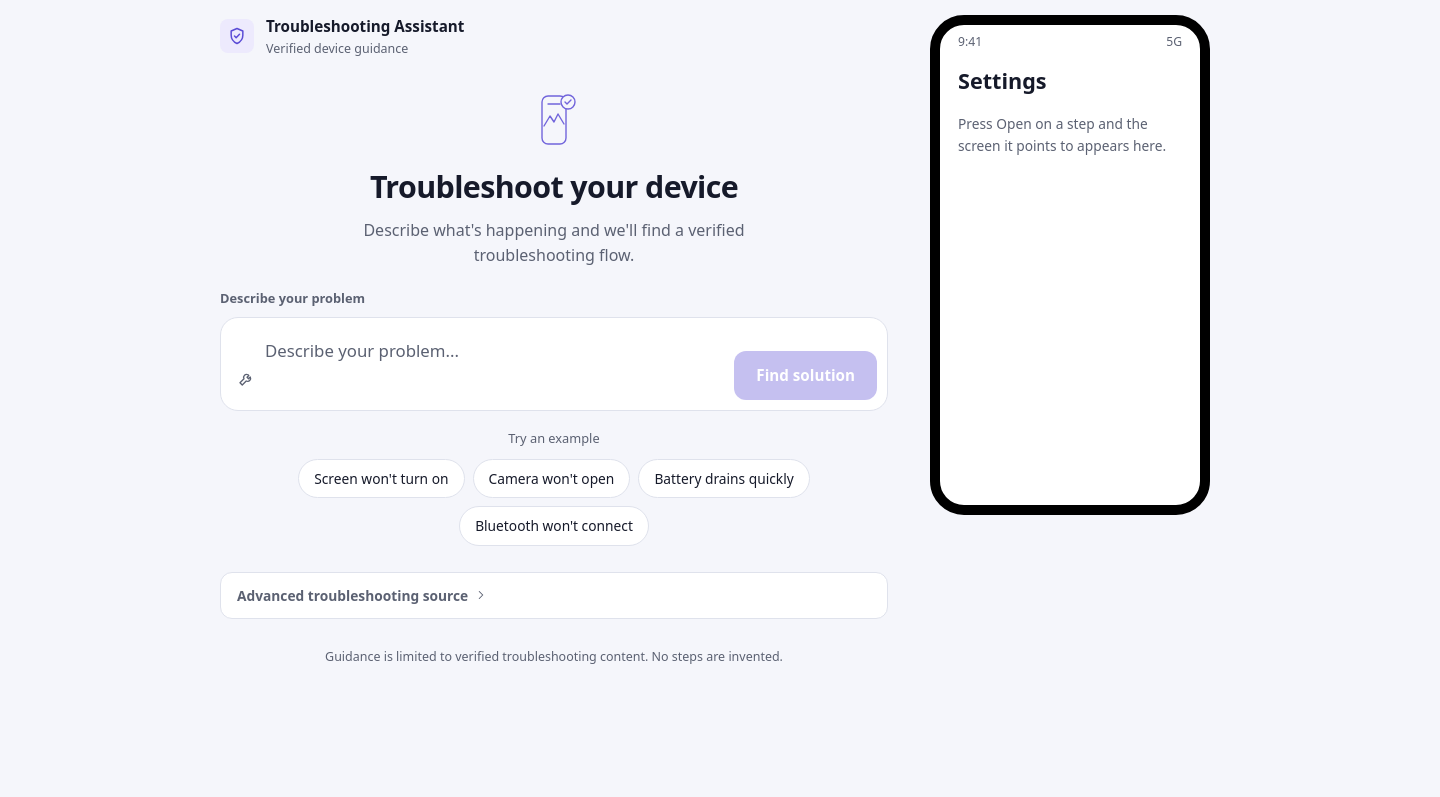
it: App › sends a clarification chip as a normal new query, not a bypass of the backend
The image size is (1440, 797).
In the text box labelled "Describe your problem": (495, 364) [265,328,724,400], type "my phone has a problem"
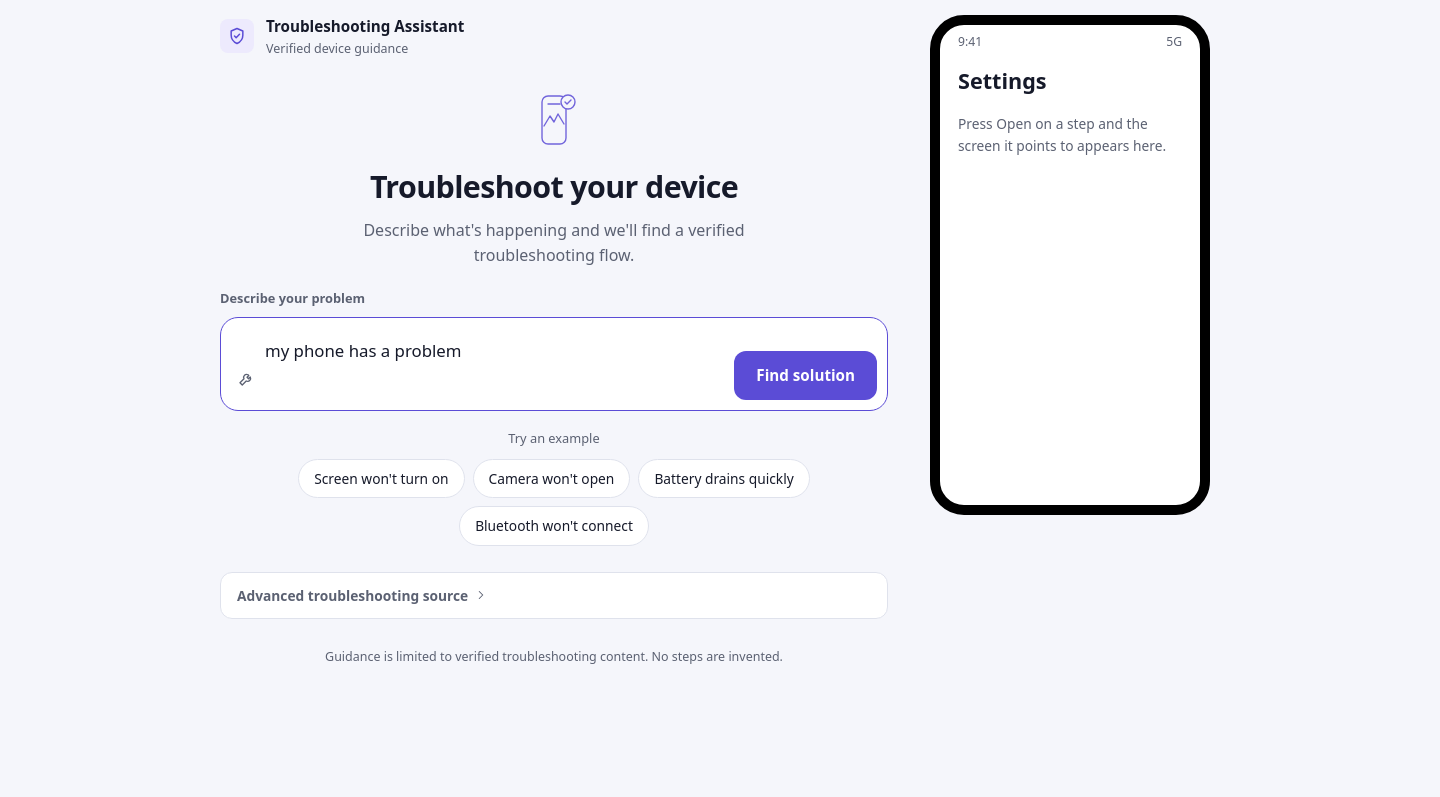
Click the button "Find solution": (806, 376) [734,351,877,400]
(page scrolled)
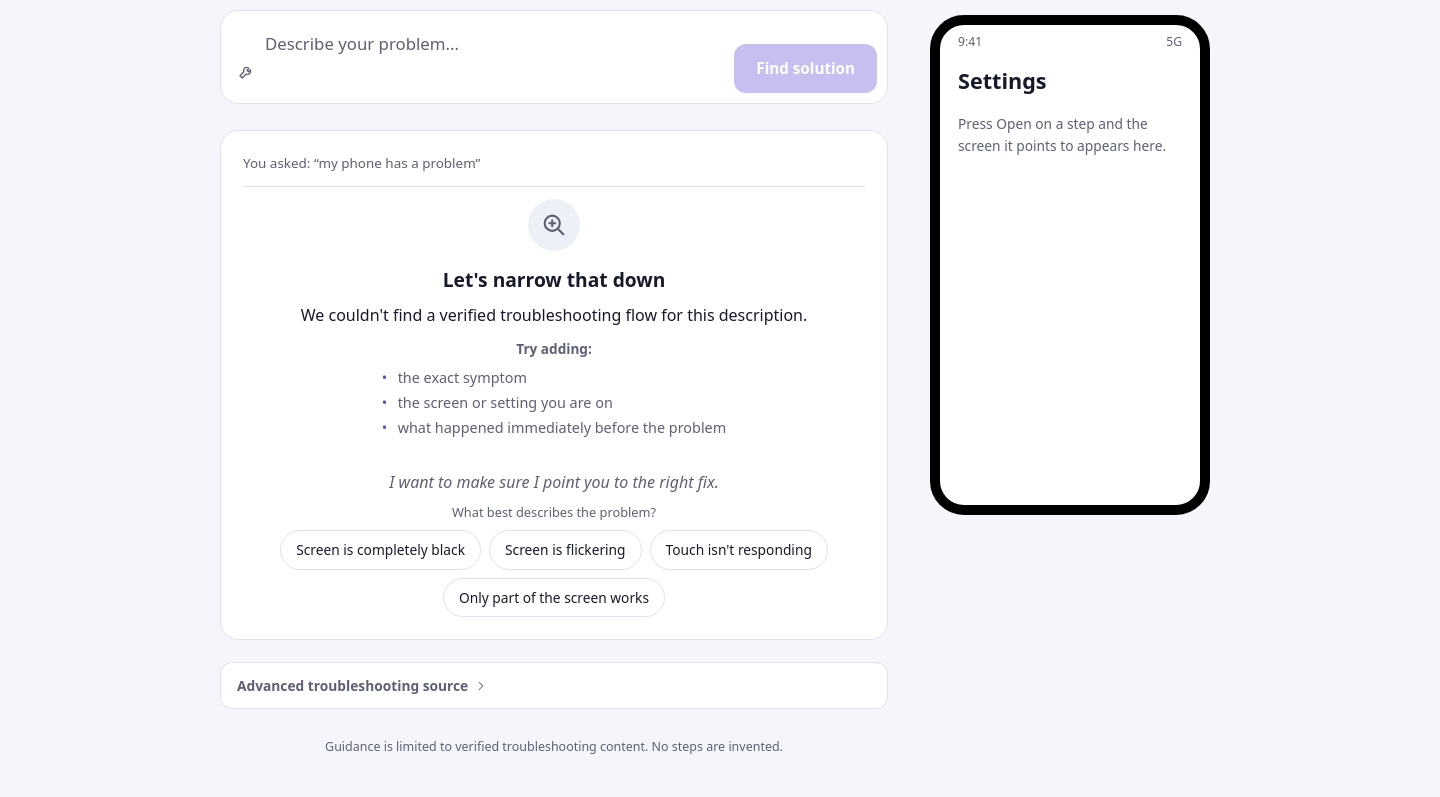
Expected: the heading "Let's narrow that down" is shown, [443,266,665,293]
Click the button "Touch isn't responding": (739, 550) [650,530,828,570]
(page scrolled)
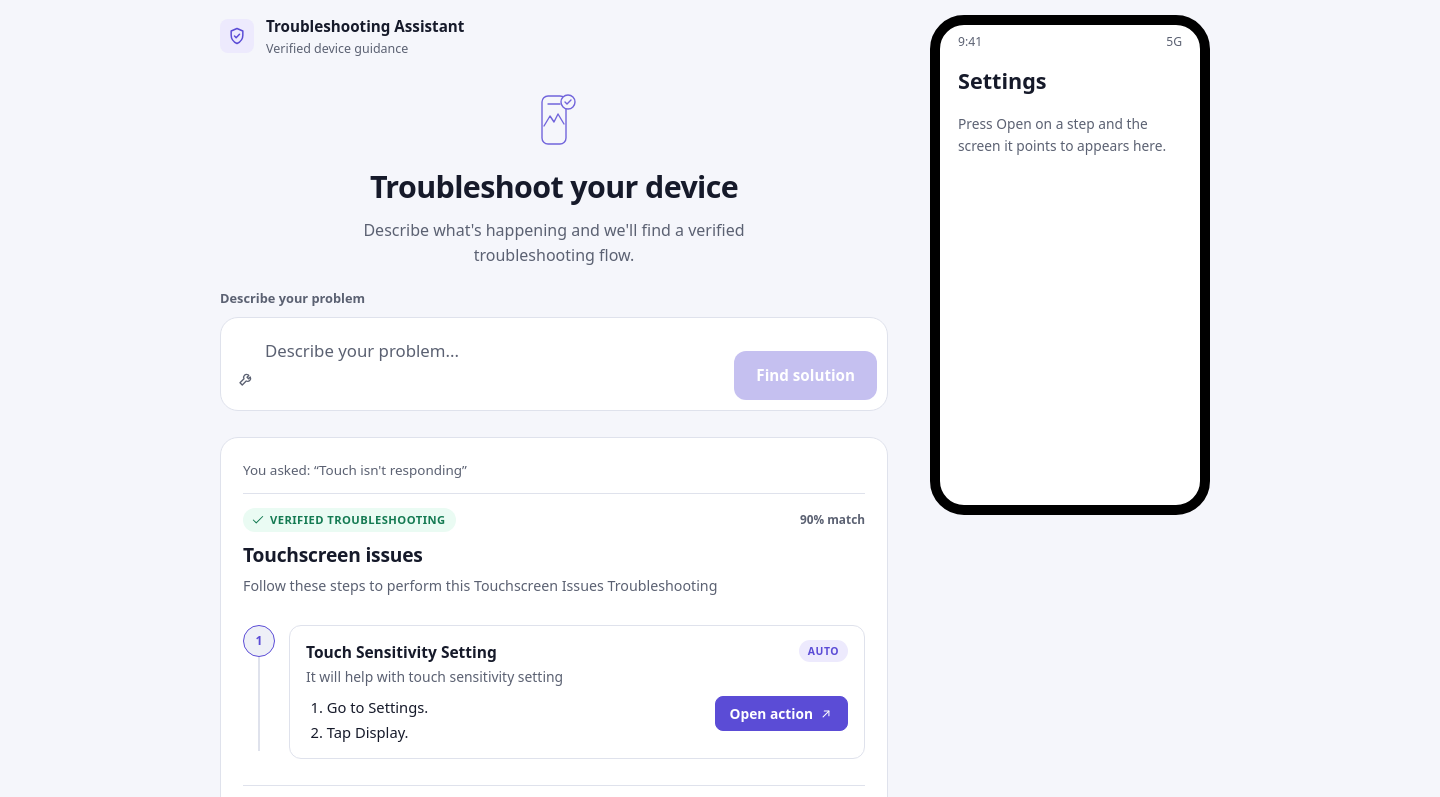
Expected: the text "Follow these steps to perform this Touchscreen Issues Troubleshooting" is shown, [243,576,717,595]
